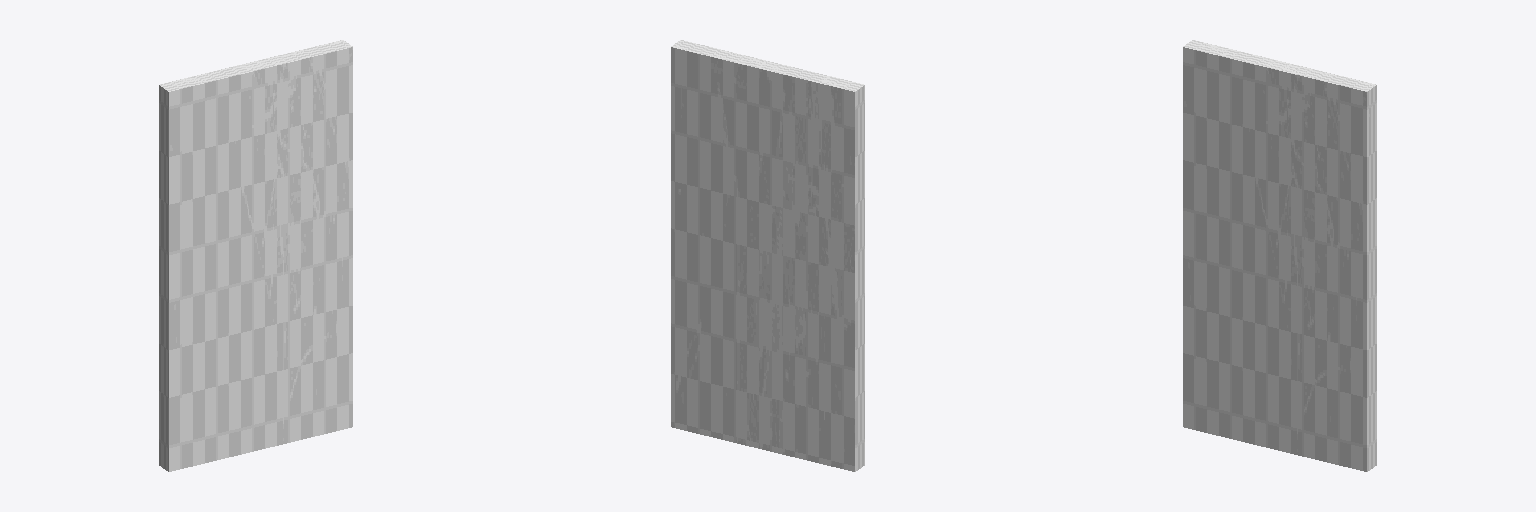
The picture shows the model from 3 angles: view 1: azimuth 30°, elevation 25°; view 2: azimuth 150°, elevation 25°; view 3: azimuth 330°, elevation 25°; orthographic projection.
Visible parts, largest first — view 1: vidriopuertaizq3:pasted__pCube1group pasted__pasted__group paste; view 2: vidriopuertaizq3:pasted__pCube1group pasted__pasted__group paste; view 3: vidriopuertaizq3:pasted__pCube1group pasted__pasted__group paste.
Boxes of the visible parts, <box> form: vidriopuertaizq3:pasted__pCube1group pasted__pasted__group paste: <box>159,40,352,471</box>; vidriopuertaizq3:pasted__pCube1group pasted__pasted__group paste: <box>671,40,864,471</box>; vidriopuertaizq3:pasted__pCube1group pasted__pasted__group paste: <box>1183,40,1376,471</box>.
Bounding box in the file's own units: 1.6 × 3.15 × 0.15.
Materials: 1 (1 with a texture image).